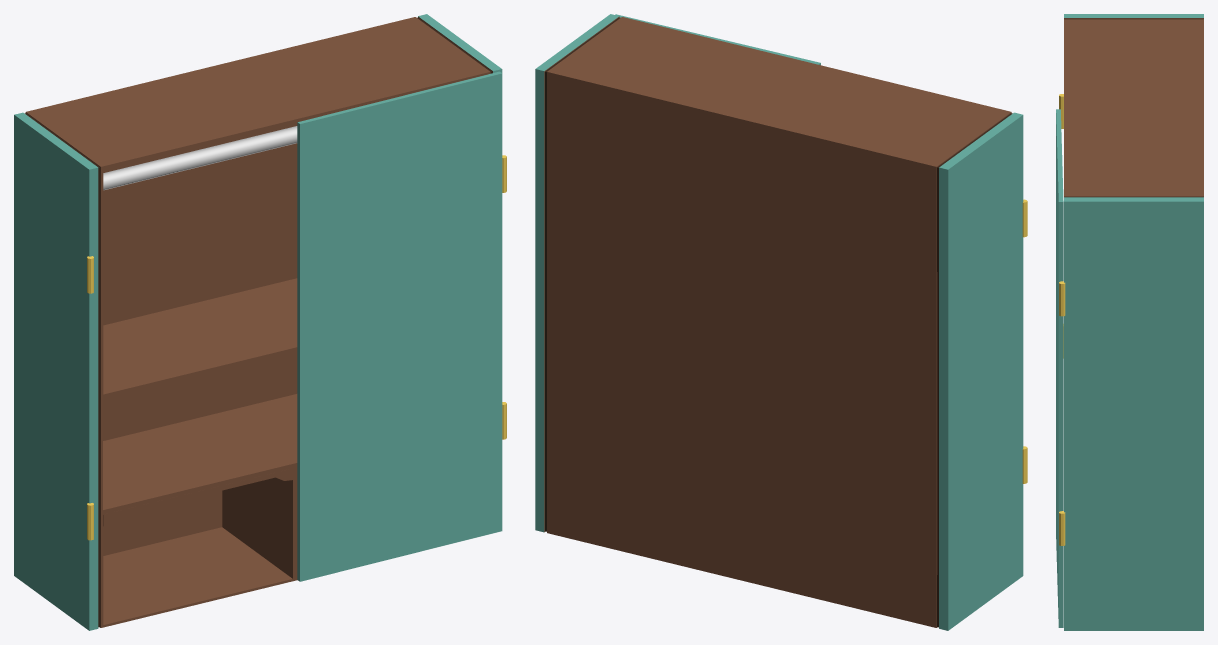
File: Green Cabinet.fbx
3 views of the same model, side by side, from view 1: azimuth 30°, elevation 25°; view 2: azimuth 150°, elevation 25°; view 3: azimuth 270°, elevation 25° (orthographic). The views are drawn at different scales.
Visible parts, largest first — view 1: shkaf_zeleni; view 2: shkaf_zeleni; view 3: shkaf_zeleni.
Boxes of the visible parts, bbox=[...] form: shkaf_zeleni: bbox=[14, 14, 506, 630]; shkaf_zeleni: bbox=[535, 14, 1027, 630]; shkaf_zeleni: bbox=[1056, 14, 1203, 630].
Bounding box in the file's own units: 493 × 519 × 162.
